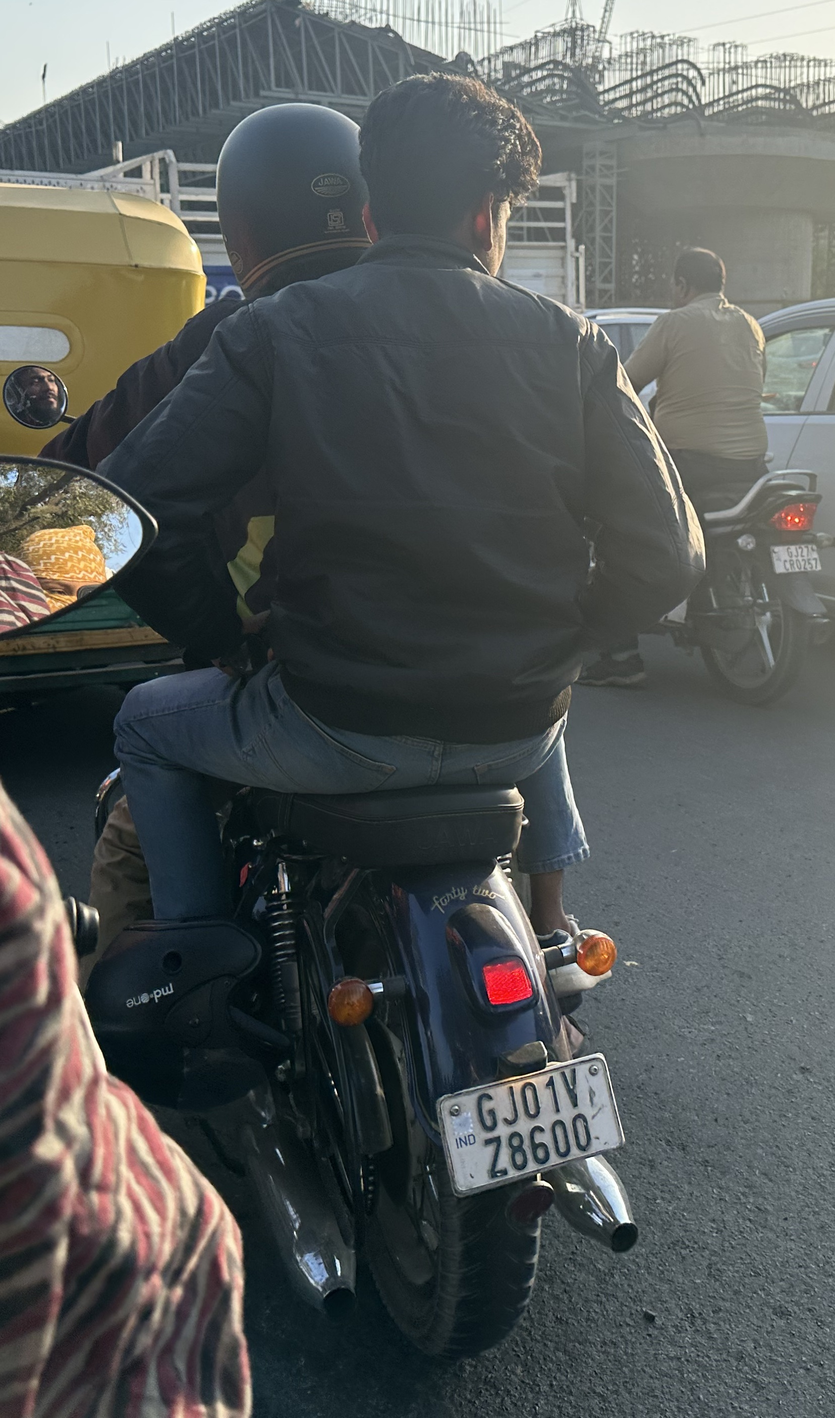BikeWithRider: (2, 58, 710, 1381), (571, 227, 831, 715)
Helmet: (199, 87, 384, 306)
NoHelmet: (348, 65, 554, 296), (659, 236, 739, 314)
